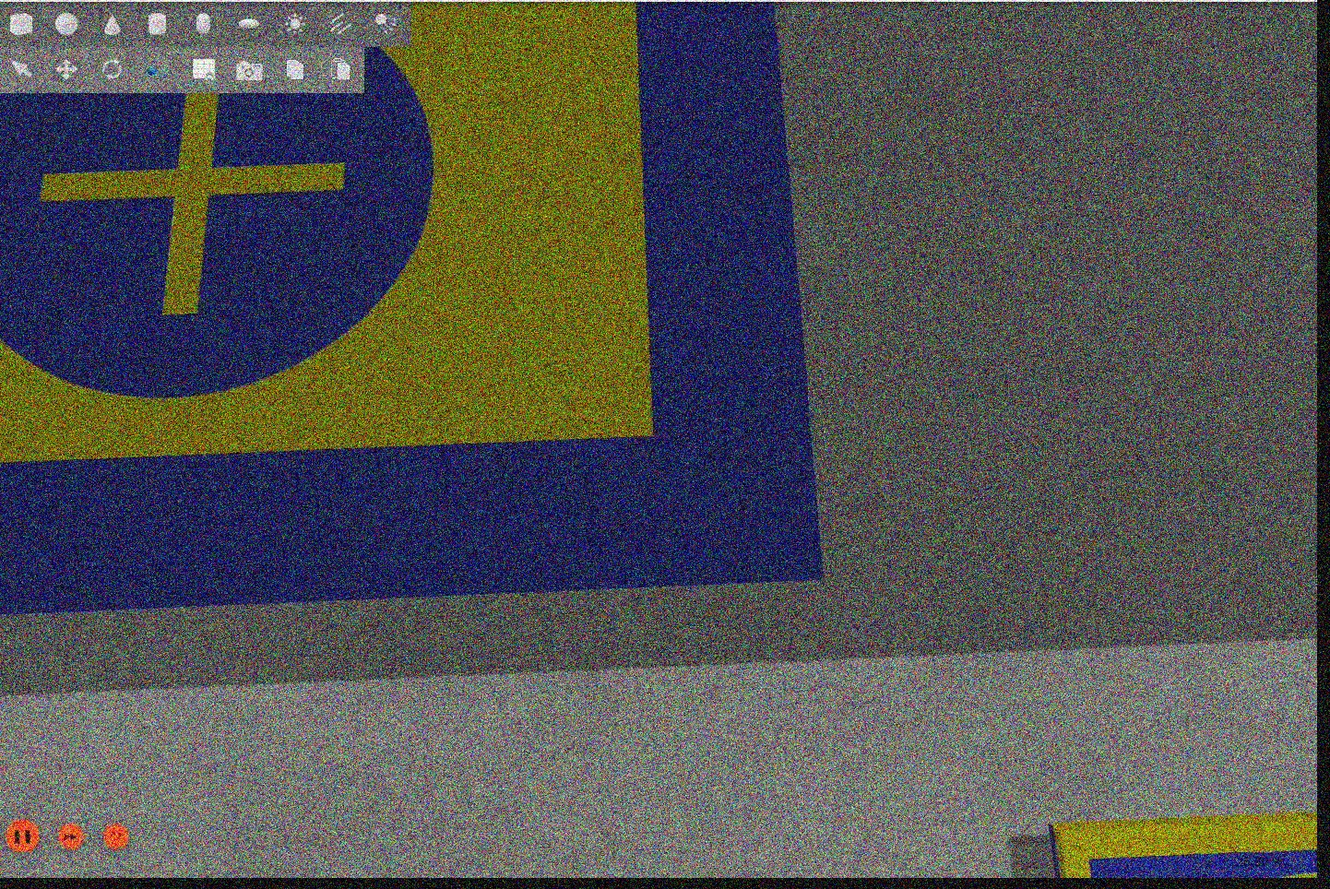large_base: (1, 4, 830, 615)
